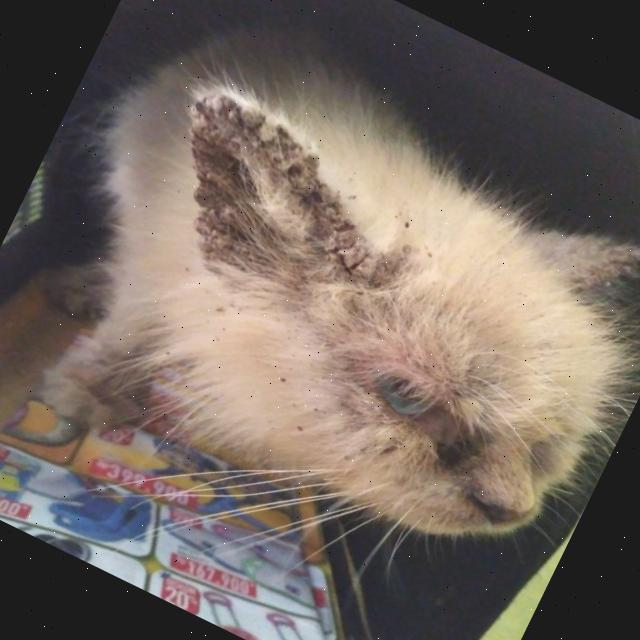cat-scabies: (186, 96, 298, 208), (279, 188, 357, 253), (192, 200, 252, 259)
